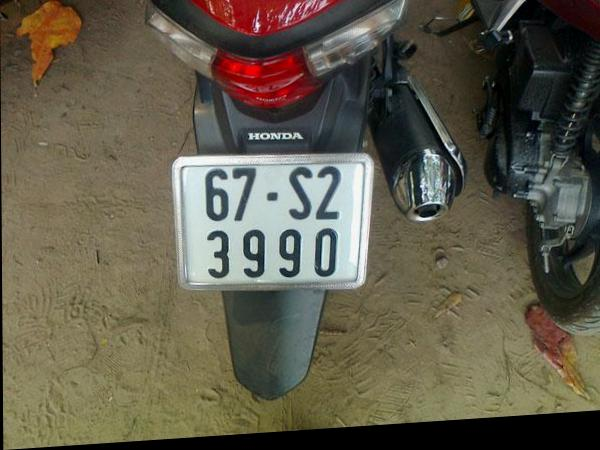License_Plate: (176, 145, 365, 297)
